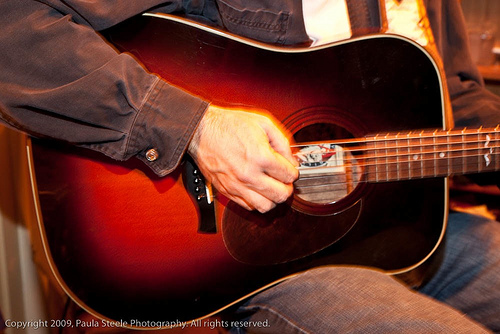guitar: (27, 14, 500, 333)
